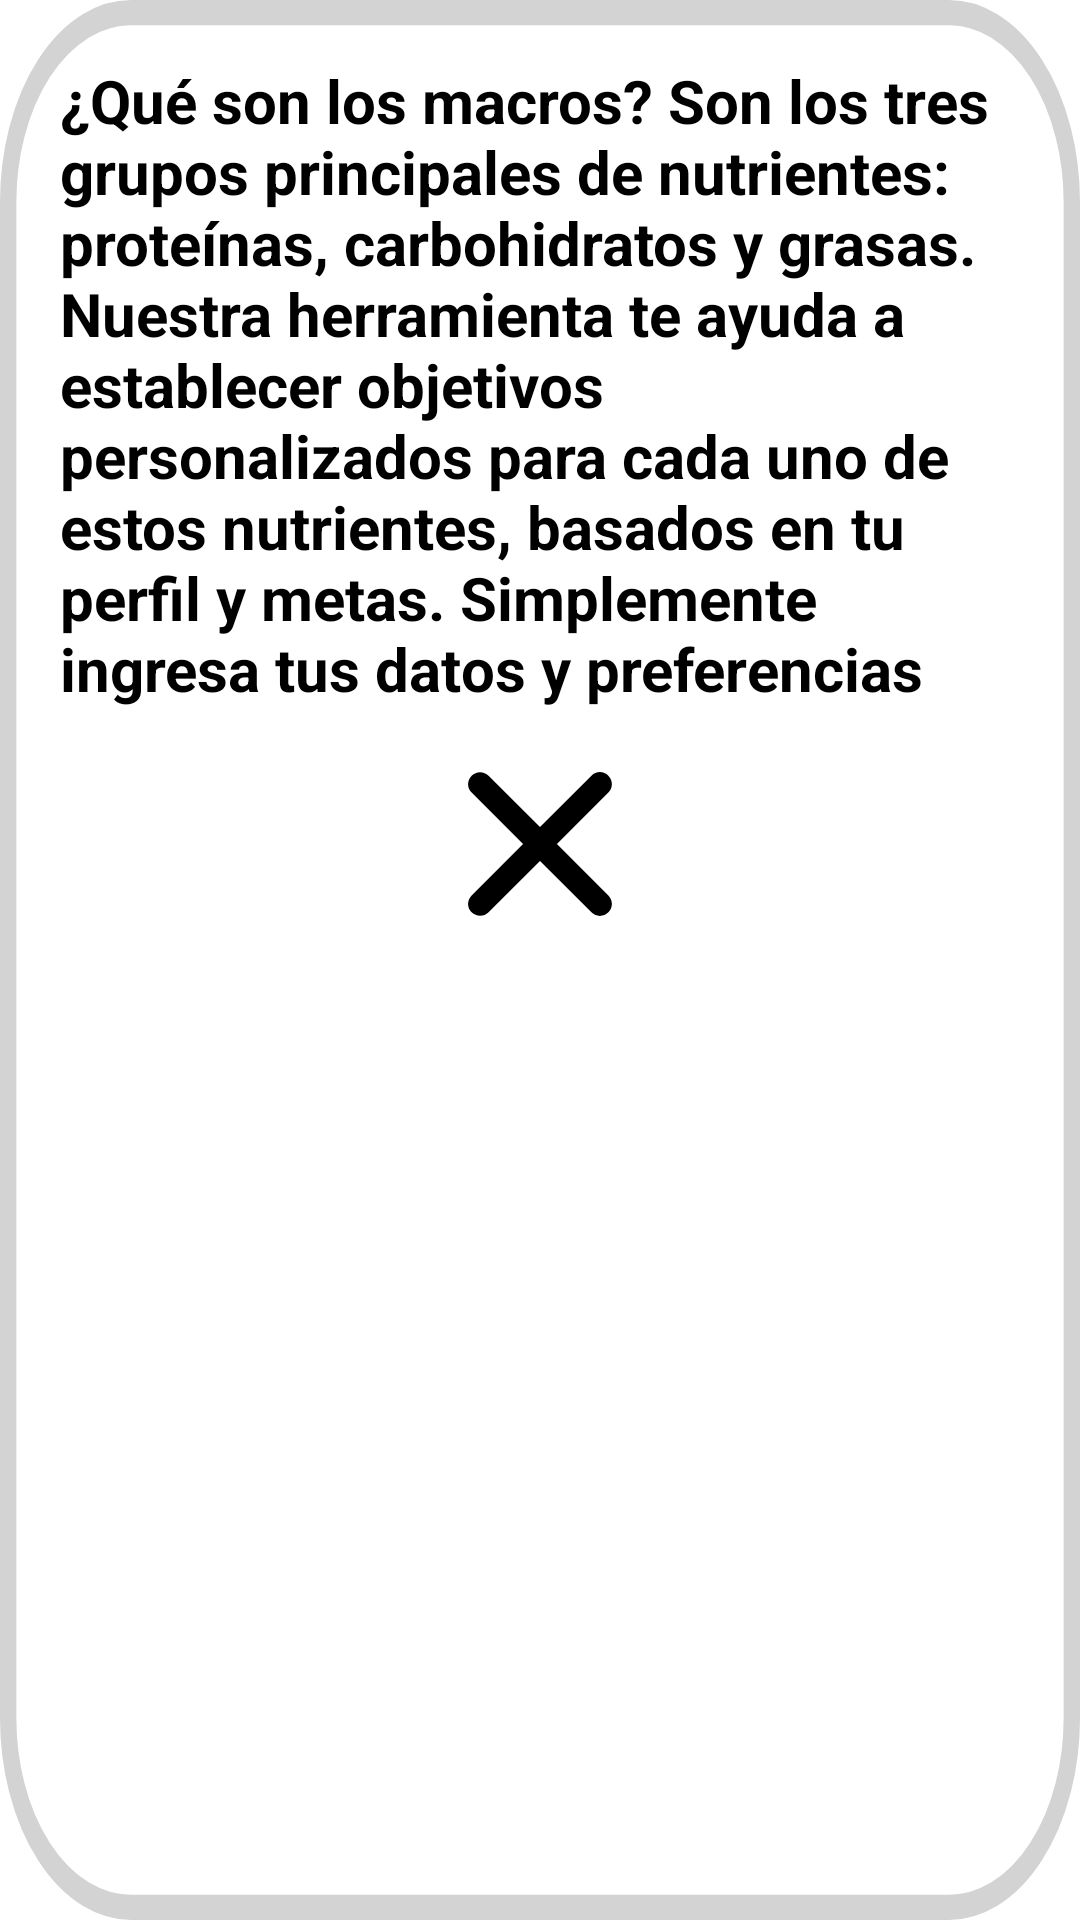

Named icons in this screenshot (1080w x 1920h) and their centers, (x,y):
close: (540,844)
